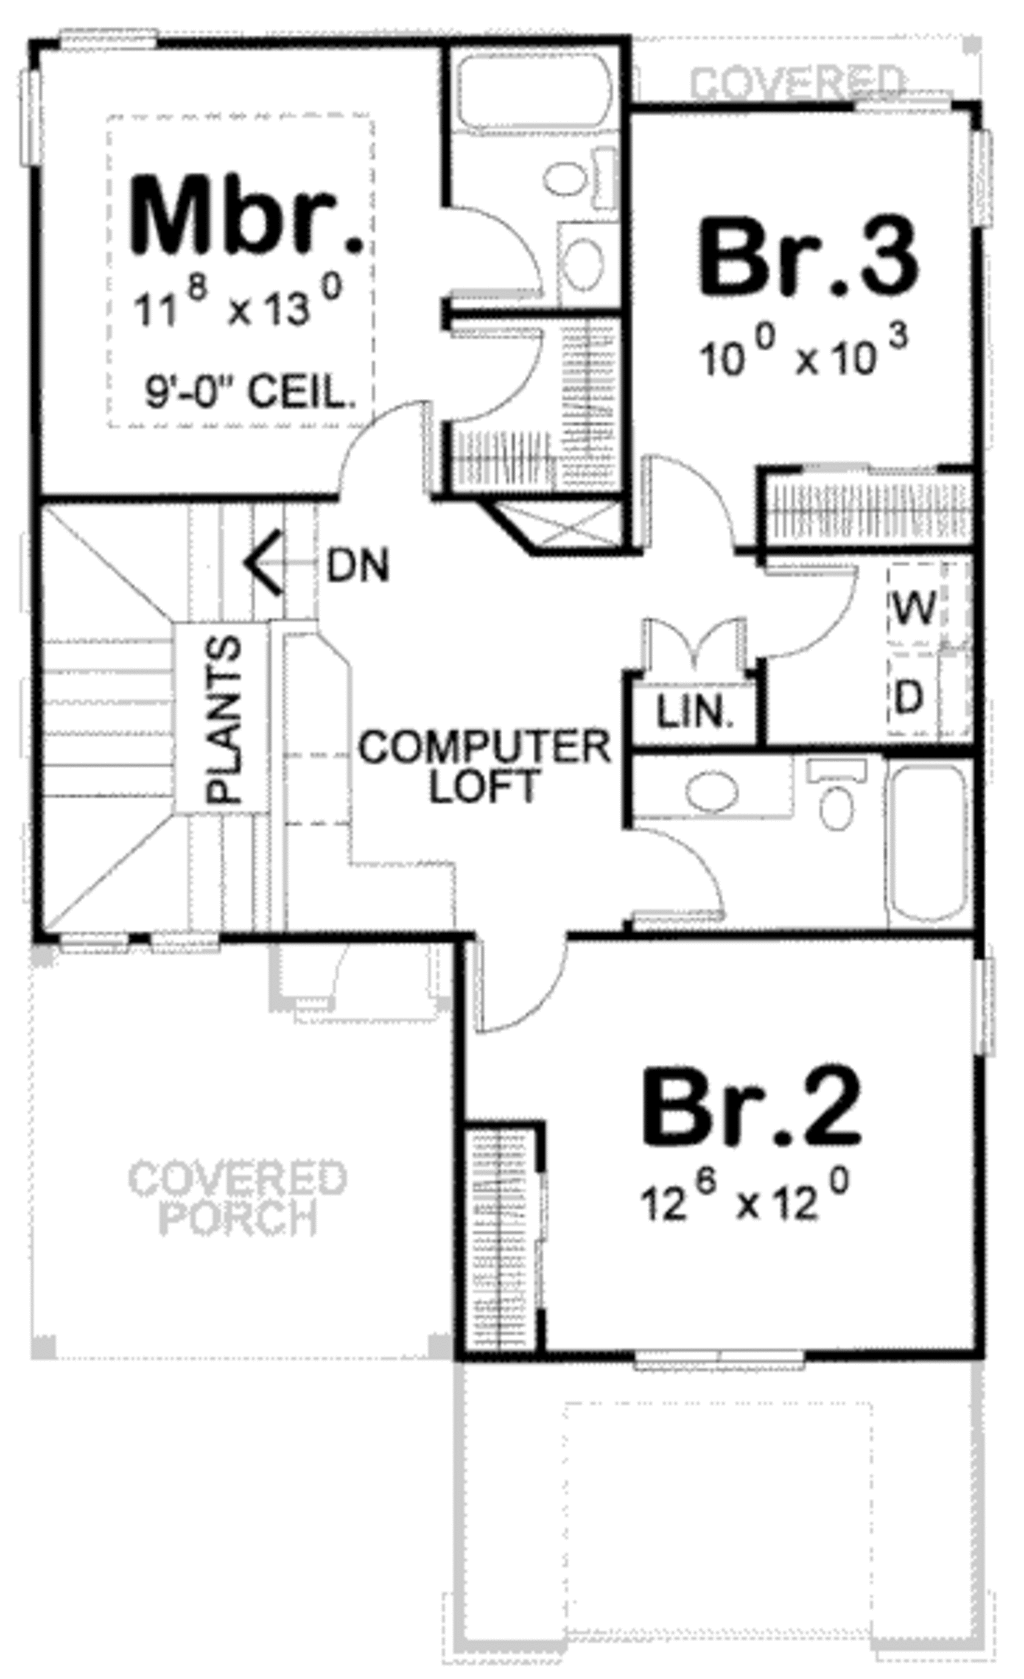door: (330, 911, 475, 1035), (459, 925, 573, 1042), (330, 387, 438, 511), (433, 201, 552, 308), (447, 325, 564, 425), (630, 458, 740, 558), (624, 604, 773, 678), (769, 566, 871, 666), (630, 828, 723, 917)
large_sink: (799, 746, 877, 845), (537, 137, 628, 204)
small_sink: (625, 758, 794, 813), (558, 219, 633, 327)
stairs: (37, 508, 478, 925)
tub: (875, 765, 980, 923), (456, 47, 630, 128)
window: (633, 1338, 813, 1380), (959, 112, 1004, 231), (969, 941, 1004, 1063), (844, 85, 956, 121), (13, 65, 50, 170)
windows: (59, 23, 159, 56)
